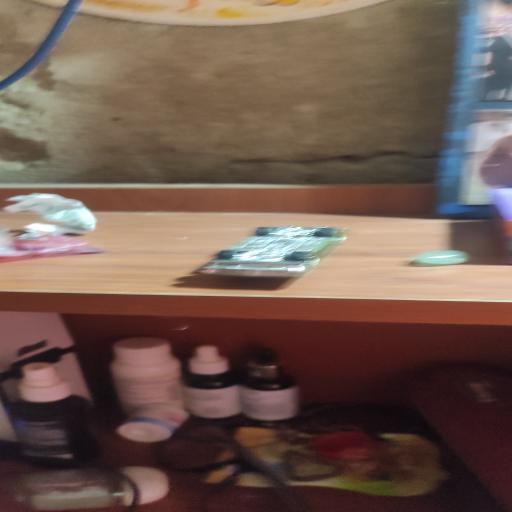Carrito: (196, 226, 346, 278)
